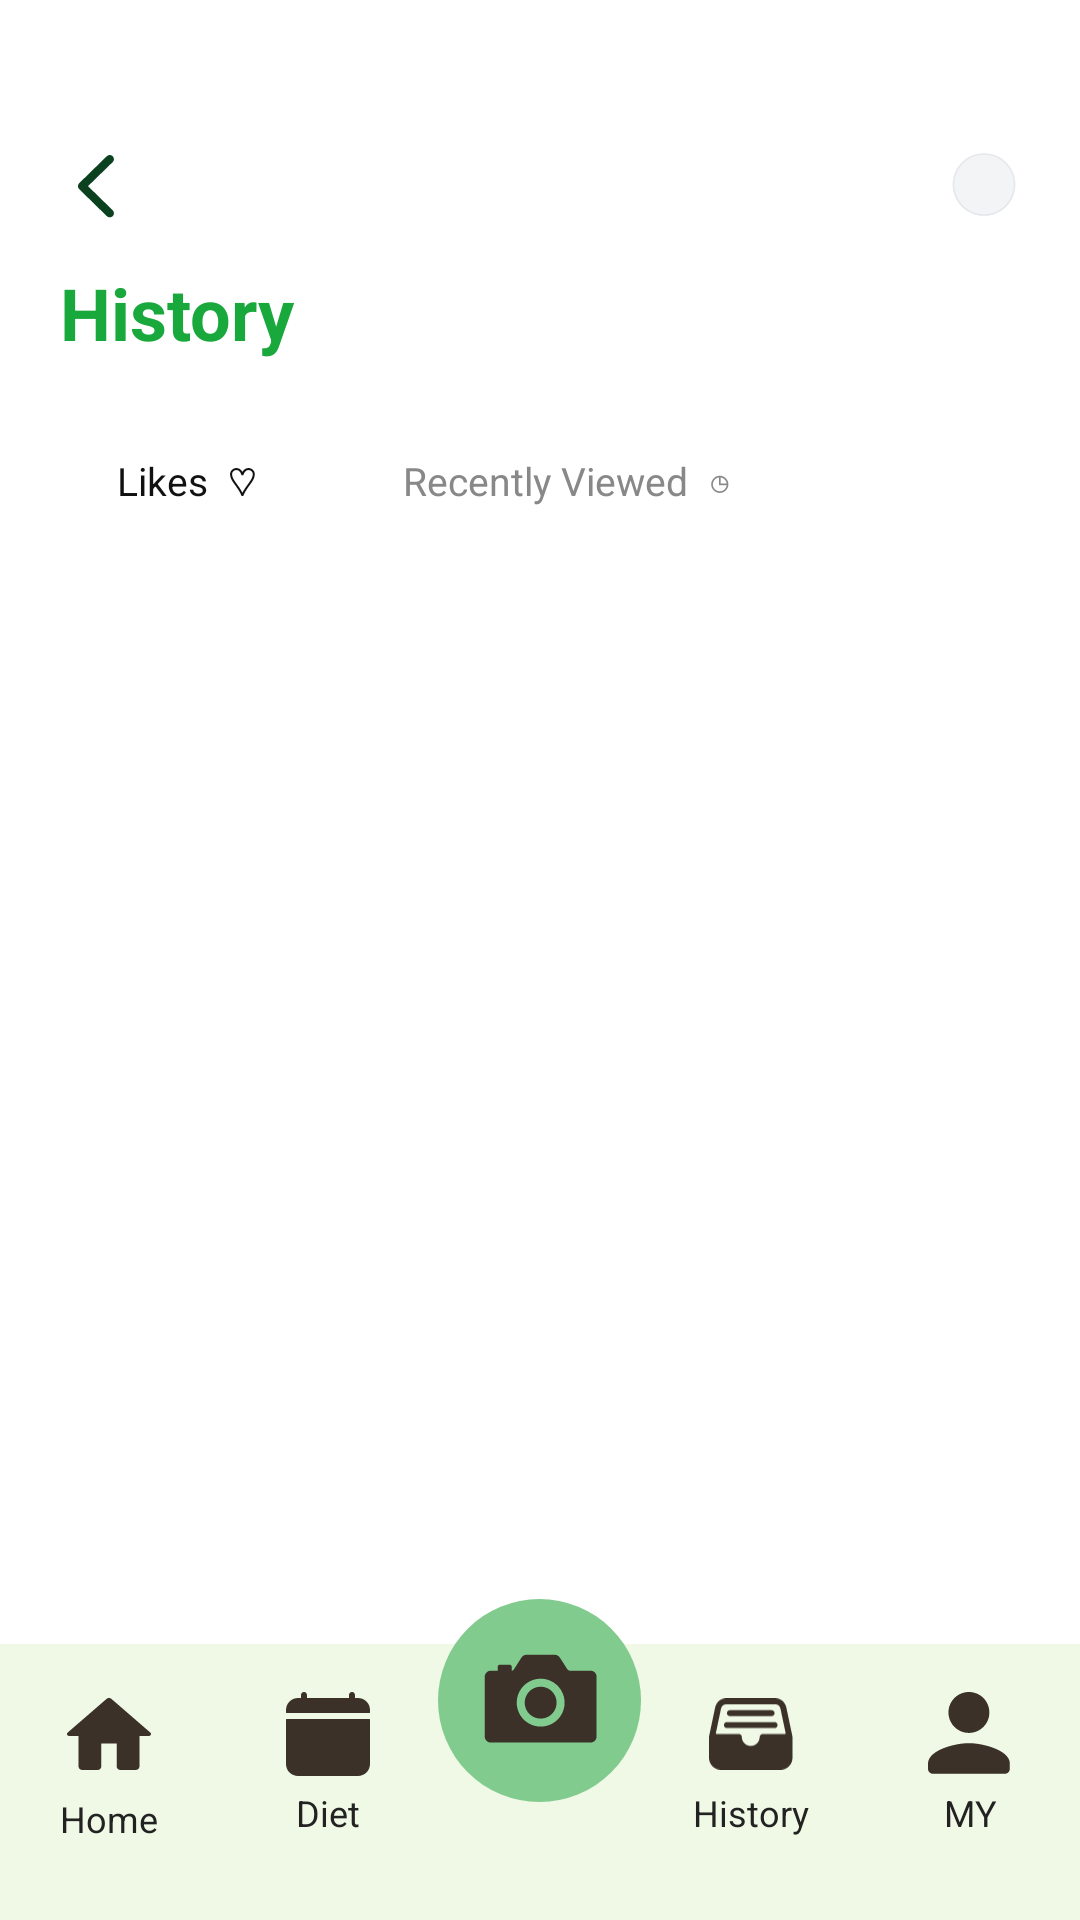

Icon bounding boxes for this 1080 × 1920 phone screenshot, format BBox(x1, y1, x2, y2):
뒤로가기: BBox(78, 155, 114, 218)
